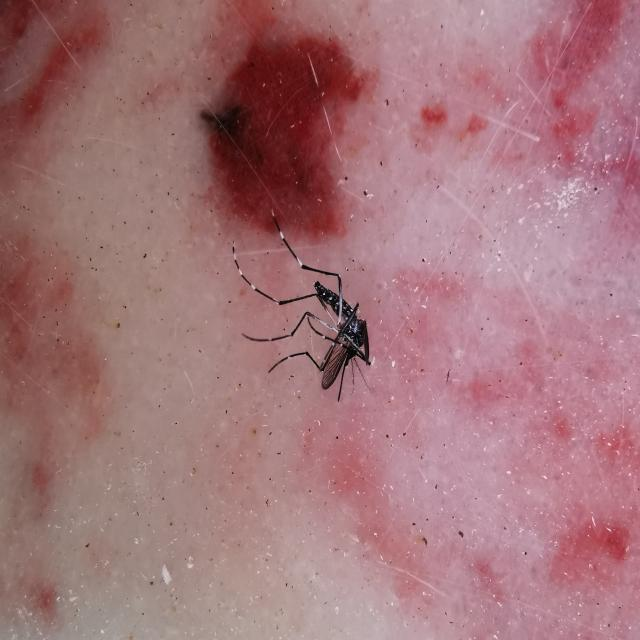albopictus: (224, 206, 376, 404)
